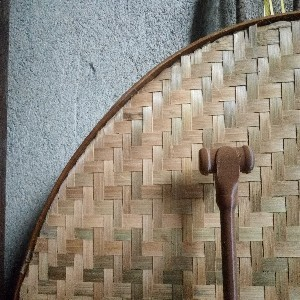palu: (198, 143, 255, 300)
